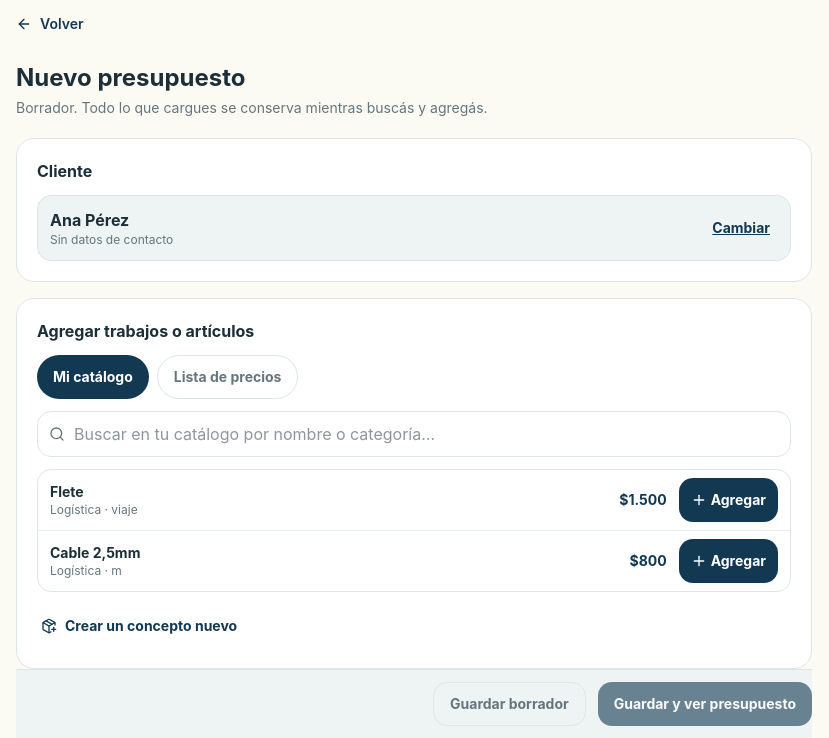
Test: guardado: sin duplicados › el cliente y las líneas viajan en el pedido; los totales NO (los calcula la base)
Click the button with aria-label "Agregar Flete". click: (728, 500)
box: [679,478,778,522]
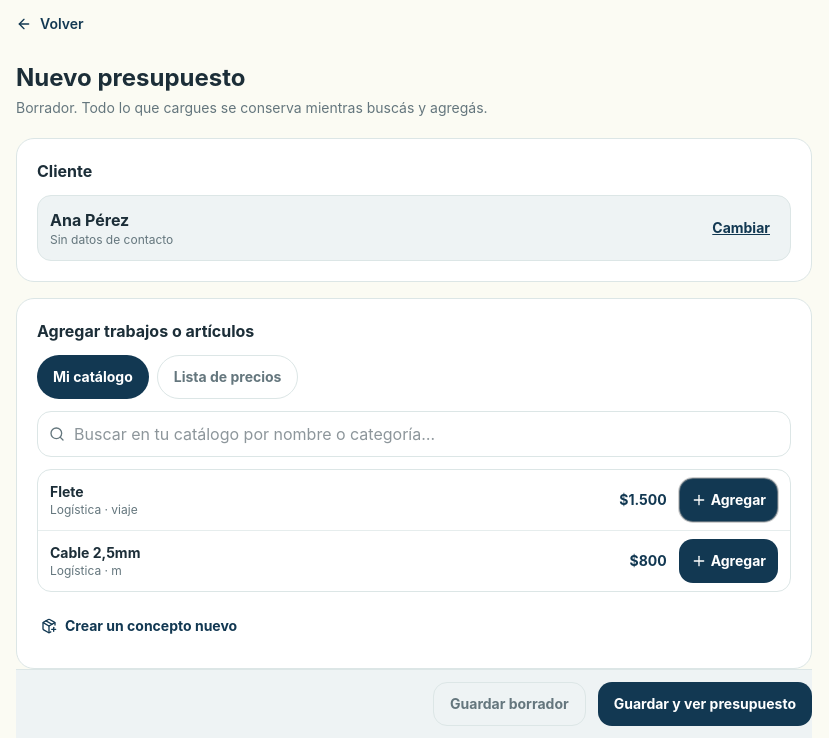
Click the button "Guardar borrador". click: (509, 704)
box: [433,682,586,726]
(page scrolled)
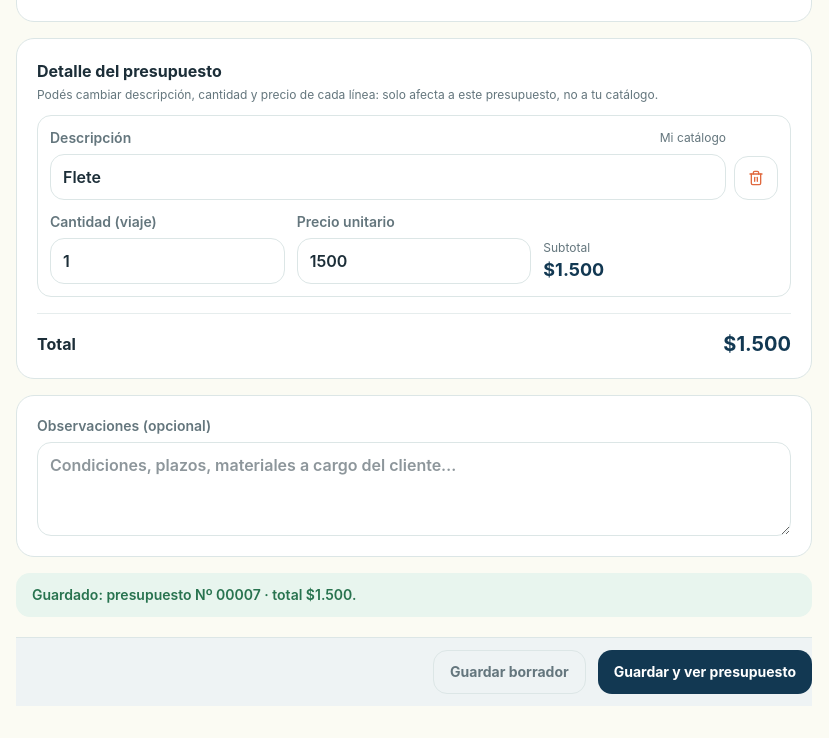
Expected: the text "Guardado: presupuesto Nº 00007 · total $1.500." is shown, [16,573,812,617]
